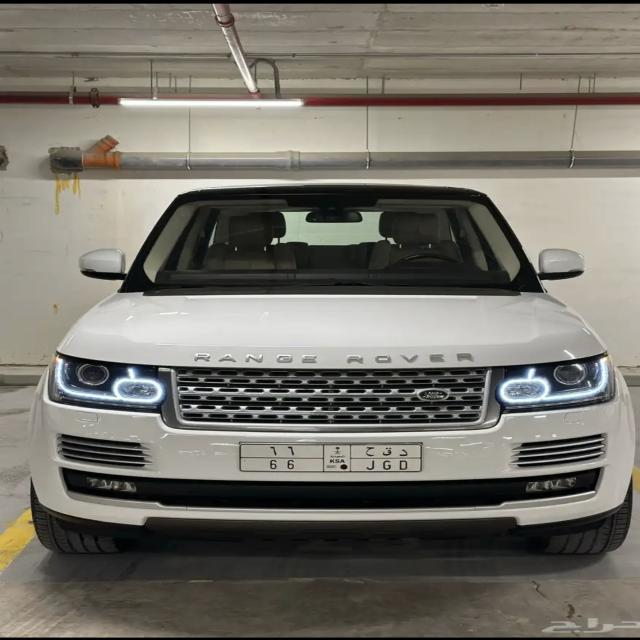license_plate: (238, 441, 422, 475)
